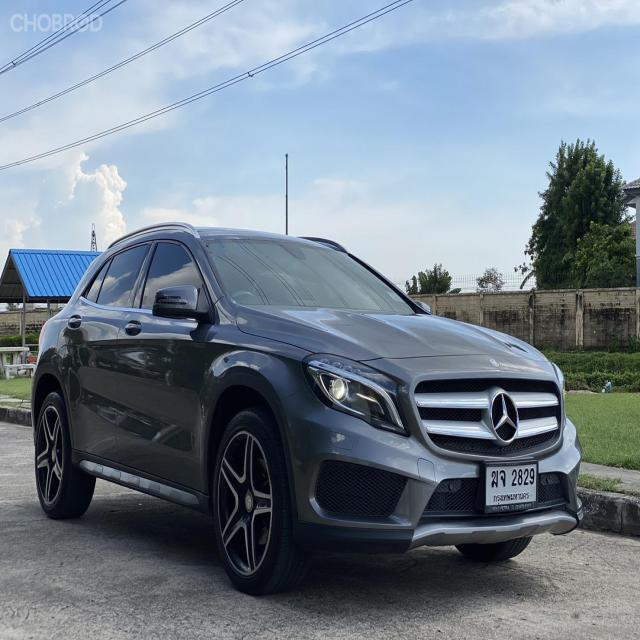license_plate: (480, 459, 541, 515)
